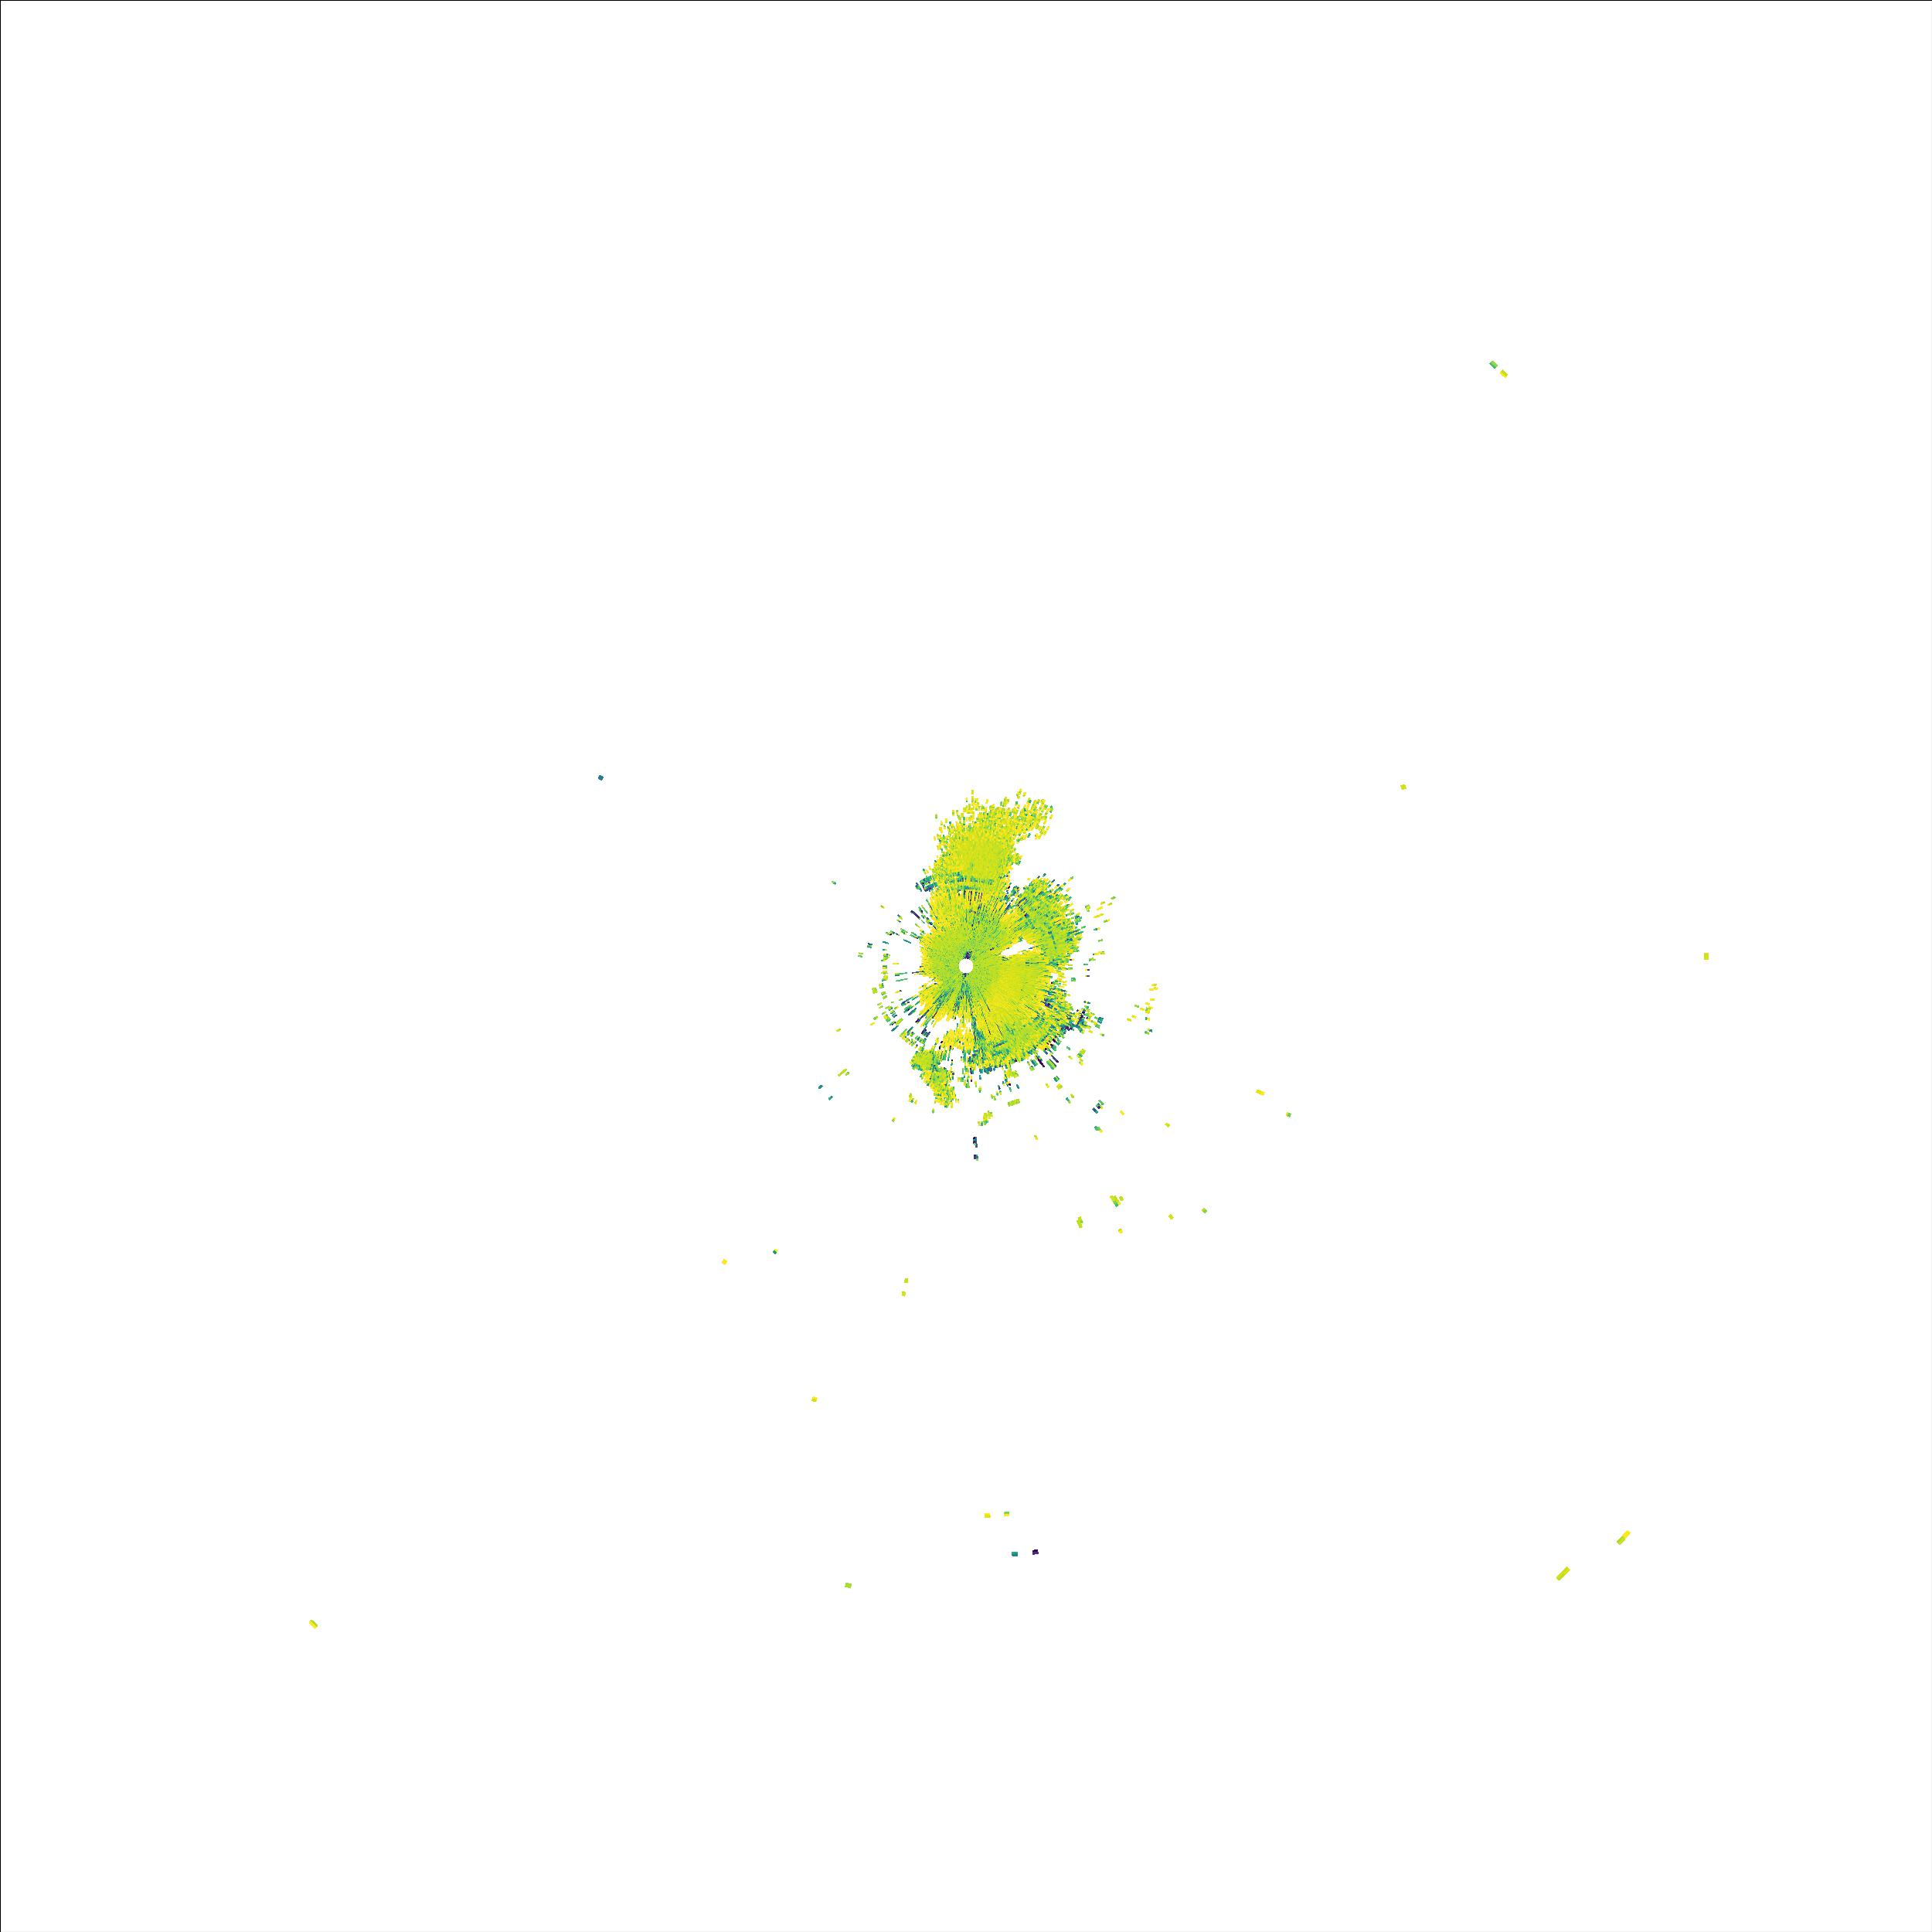fall: (842, 1065, 853, 1081)
